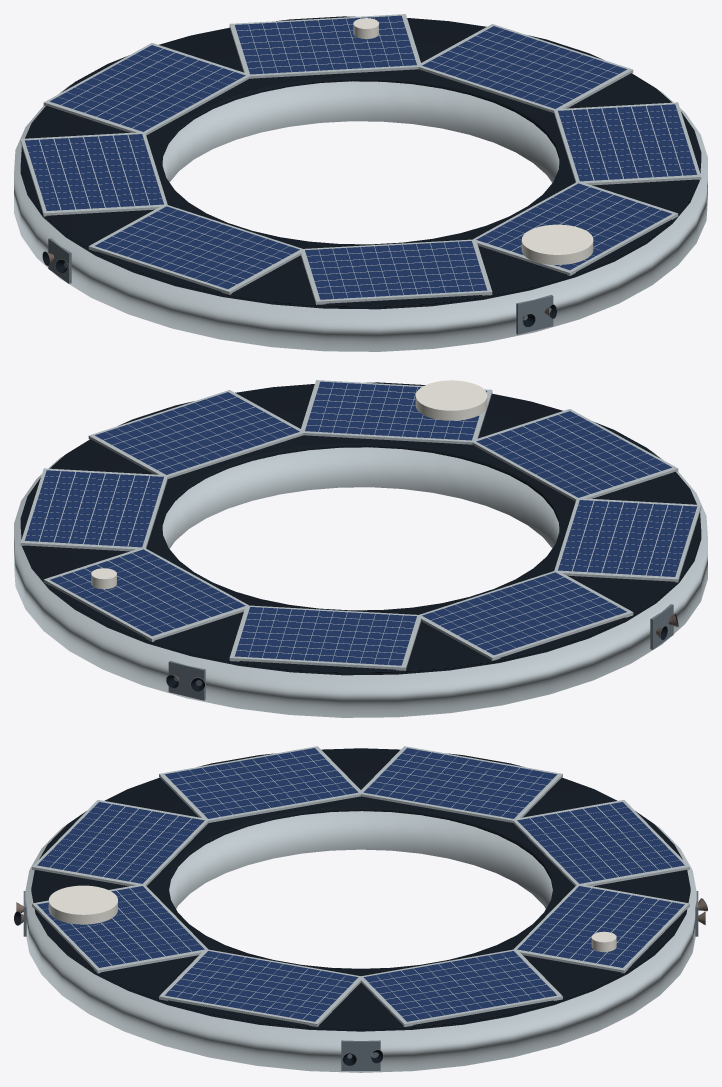
File: mars_cruise_stage.glb
3 views of the same model, one above another, from view 1: azimuth 30°, elevation 25°; view 2: azimuth 150°, elevation 25°; view 3: azimuth 270°, elevation 25° (orthographic). The views are drawn at different scales.
Visible parts, largest first — view 1: mars_cruise_stage.mesh_Satin_aluminum, mars_cruise_stage.mesh_Shadowed_interior, mars_cruise_stage.solar_panel_08.mesh_Indigo_solar_cells, mars_cruise_stage.solar_panel_07.mesh_Indigo_solar_cells, mars_cruise_stage.solar_panel_03.mesh_Indigo_solar_cells, mars_cruise_stage.solar_panel_05.mesh_Indigo_solar_cells, mars_cruise_stage.solar_panel_02.mesh_Indigo_solar_cells, mars_cruise_stage.solar_panel_06.mesh_Indigo_solar_cells, mars_cruise_stage.solar_panel_04.mesh_Indigo_solar_cells, mars_cruise_stage.solar_panel_01.mesh_Indigo_solar_cells, mars_cruise_stage.solar_panel_07.mesh_Satin_aluminum, mars_cruise_stage.solar_panel_03.mesh_Satin_aluminum (+9 smaller); view 2: mars_cruise_stage.mesh_Satin_aluminum, mars_cruise_stage.mesh_Shadowed_interior, mars_cruise_stage.solar_panel_05.mesh_Indigo_solar_cells, mars_cruise_stage.solar_panel_06.mesh_Indigo_solar_cells, mars_cruise_stage.solar_panel_02.mesh_Indigo_solar_cells, mars_cruise_stage.solar_panel_08.mesh_Indigo_solar_cells, mars_cruise_stage.solar_panel_03.mesh_Indigo_solar_cells, mars_cruise_stage.solar_panel_07.mesh_Indigo_solar_cells, mars_cruise_stage.solar_panel_04.mesh_Indigo_solar_cells, mars_cruise_stage.solar_panel_01.mesh_Indigo_solar_cells, mars_cruise_stage.solar_panel_06.mesh_Satin_aluminum, mars_cruise_stage.solar_panel_02.mesh_Satin_aluminum (+9 smaller); view 3: mars_cruise_stage.mesh_Satin_aluminum, mars_cruise_stage.mesh_Shadowed_interior, mars_cruise_stage.solar_panel_02.mesh_Indigo_solar_cells, mars_cruise_stage.solar_panel_03.mesh_Indigo_solar_cells, mars_cruise_stage.solar_panel_06.mesh_Indigo_solar_cells, mars_cruise_stage.solar_panel_07.mesh_Indigo_solar_cells, mars_cruise_stage.solar_panel_05.mesh_Indigo_solar_cells, mars_cruise_stage.solar_panel_08.mesh_Indigo_solar_cells, mars_cruise_stage.solar_panel_04.mesh_Indigo_solar_cells, mars_cruise_stage.solar_panel_01.mesh_Indigo_solar_cells, mars_cruise_stage.solar_panel_02.mesh_Satin_aluminum, mars_cruise_stage.solar_panel_03.mesh_Satin_aluminum (+8 smaller).
Part boxes in pixels (x1,y1,x2,y2): mars_cruise_stage.mesh_Satin_aluminum: [14, 81, 707, 351]; mars_cruise_stage.mesh_Shadowed_interior: [20, 16, 701, 309]; mars_cruise_stage.solar_panel_08.mesh_Indigo_solar_cells: [305, 241, 487, 299]; mars_cruise_stage.solar_panel_07.mesh_Indigo_solar_cells: [95, 206, 299, 288]; mars_cruise_stage.solar_panel_03.mesh_Indigo_solar_cells: [422, 26, 626, 108]; mars_cruise_stage.solar_panel_05.mesh_Indigo_solar_cells: [50, 45, 245, 131]; mars_cruise_stage.solar_panel_02.mesh_Indigo_solar_cells: [558, 104, 696, 181]; mars_cruise_stage.solar_panel_06.mesh_Indigo_solar_cells: [25, 134, 163, 210]; mars_cruise_stage.solar_panel_04.mesh_Indigo_solar_cells: [235, 15, 416, 74]; mars_cruise_stage.solar_panel_01.mesh_Indigo_solar_cells: [476, 183, 671, 270]; mars_cruise_stage.solar_panel_07.mesh_Satin_aluminum: [88, 205, 305, 294]; mars_cruise_stage.solar_panel_03.mesh_Satin_aluminum: [416, 24, 633, 112]; mars_cruise_stage.mesh_Satin_aluminum: [14, 447, 707, 717]; mars_cruise_stage.mesh_Shadowed_interior: [20, 382, 701, 675]; mars_cruise_stage.solar_panel_05.mesh_Indigo_solar_cells: [234, 607, 416, 665]; mars_cruise_stage.solar_panel_06.mesh_Indigo_solar_cells: [422, 572, 626, 654]; mars_cruise_stage.solar_panel_02.mesh_Indigo_solar_cells: [95, 392, 299, 474]; mars_cruise_stage.solar_panel_08.mesh_Indigo_solar_cells: [476, 411, 671, 497]; mars_cruise_stage.solar_panel_03.mesh_Indigo_solar_cells: [25, 470, 163, 547]; mars_cruise_stage.solar_panel_07.mesh_Indigo_solar_cells: [558, 500, 696, 576]; mars_cruise_stage.solar_panel_04.mesh_Indigo_solar_cells: [50, 549, 245, 636]; mars_cruise_stage.solar_panel_01.mesh_Indigo_solar_cells: [305, 381, 486, 440]; mars_cruise_stage.solar_panel_06.mesh_Satin_aluminum: [417, 570, 633, 660]; mars_cruise_stage.solar_panel_02.mesh_Satin_aluminum: [88, 390, 304, 478]; mars_cruise_stage.mesh_Satin_aluminum: [25, 811, 696, 1072]; mars_cruise_stage.mesh_Shadowed_interior: [31, 748, 690, 1031]; mars_cruise_stage.solar_panel_02.mesh_Indigo_solar_cells: [165, 951, 358, 1021]; mars_cruise_stage.solar_panel_03.mesh_Indigo_solar_cells: [363, 951, 556, 1021]; mars_cruise_stage.solar_panel_06.mesh_Indigo_solar_cells: [363, 748, 556, 818]; mars_cruise_stage.solar_panel_07.mesh_Indigo_solar_cells: [165, 748, 358, 818]; mars_cruise_stage.solar_panel_05.mesh_Indigo_solar_cells: [517, 802, 684, 883]; mars_cruise_stage.solar_panel_08.mesh_Indigo_solar_cells: [37, 802, 204, 883]; mars_cruise_stage.solar_panel_04.mesh_Indigo_solar_cells: [517, 886, 684, 967]; mars_cruise_stage.solar_panel_01.mesh_Indigo_solar_cells: [37, 886, 204, 967]; mars_cruise_stage.solar_panel_02.mesh_Satin_aluminum: [159, 949, 363, 1026]; mars_cruise_stage.solar_panel_03.mesh_Satin_aluminum: [358, 949, 562, 1026].
Bounding box in the file's own units: 4.4 × 0.39 × 4.4.
